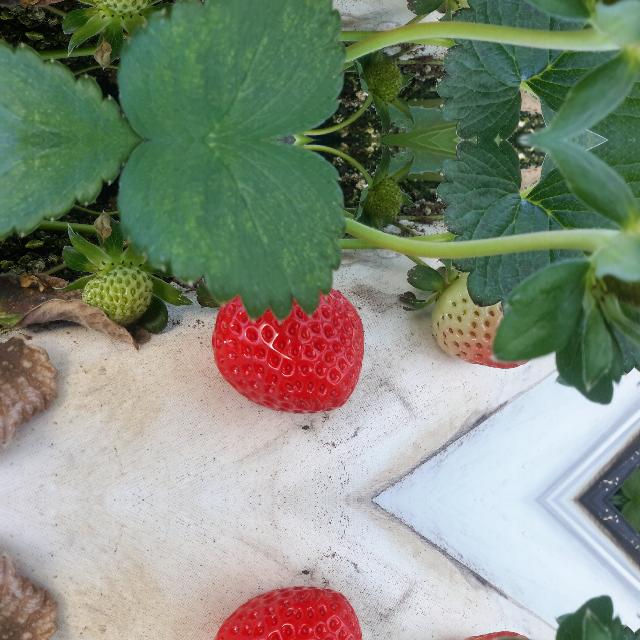Health_100: (212, 287, 362, 413), (211, 587, 362, 640)
Health_25: (77, 267, 153, 327), (77, 0, 153, 13)
Health_50: (432, 267, 532, 369)
